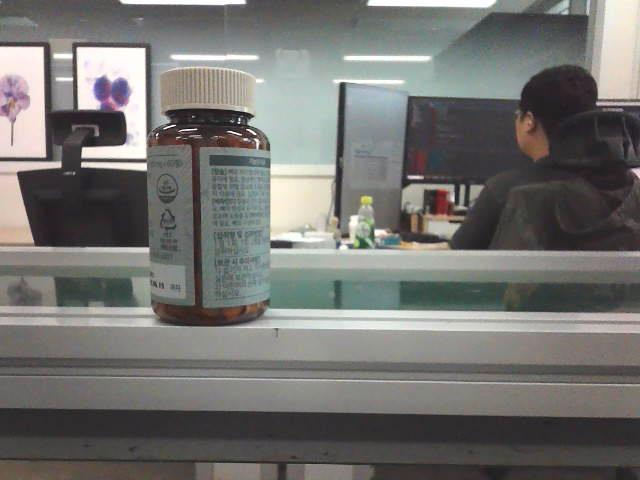labeled: (142, 64, 277, 330)
